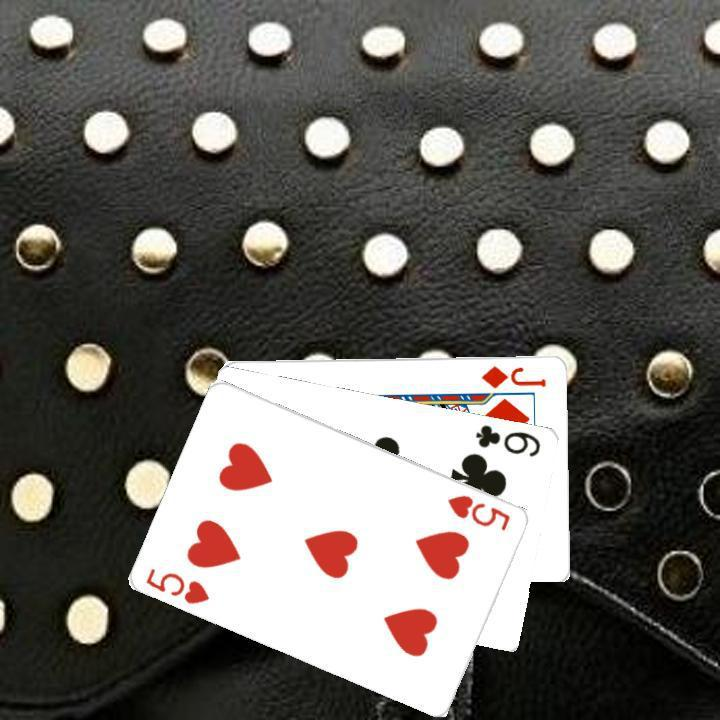5: (142, 563, 213, 606), (444, 490, 513, 533)
6: (472, 419, 543, 459)
J: (477, 361, 548, 390)
